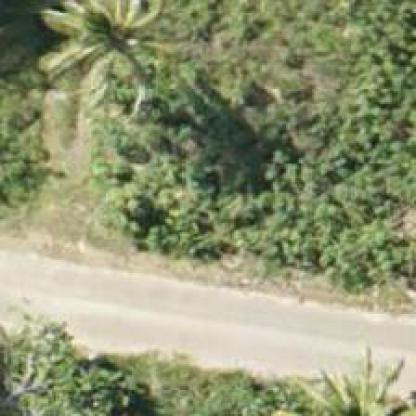coconut tree: (33, 0, 163, 120)
